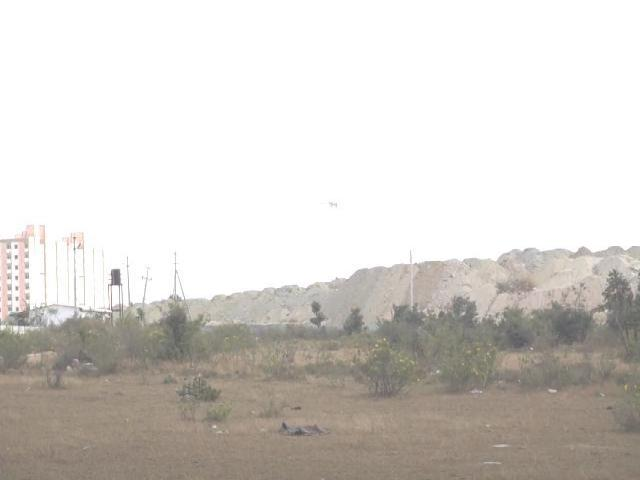iha: (315, 198, 346, 208)
